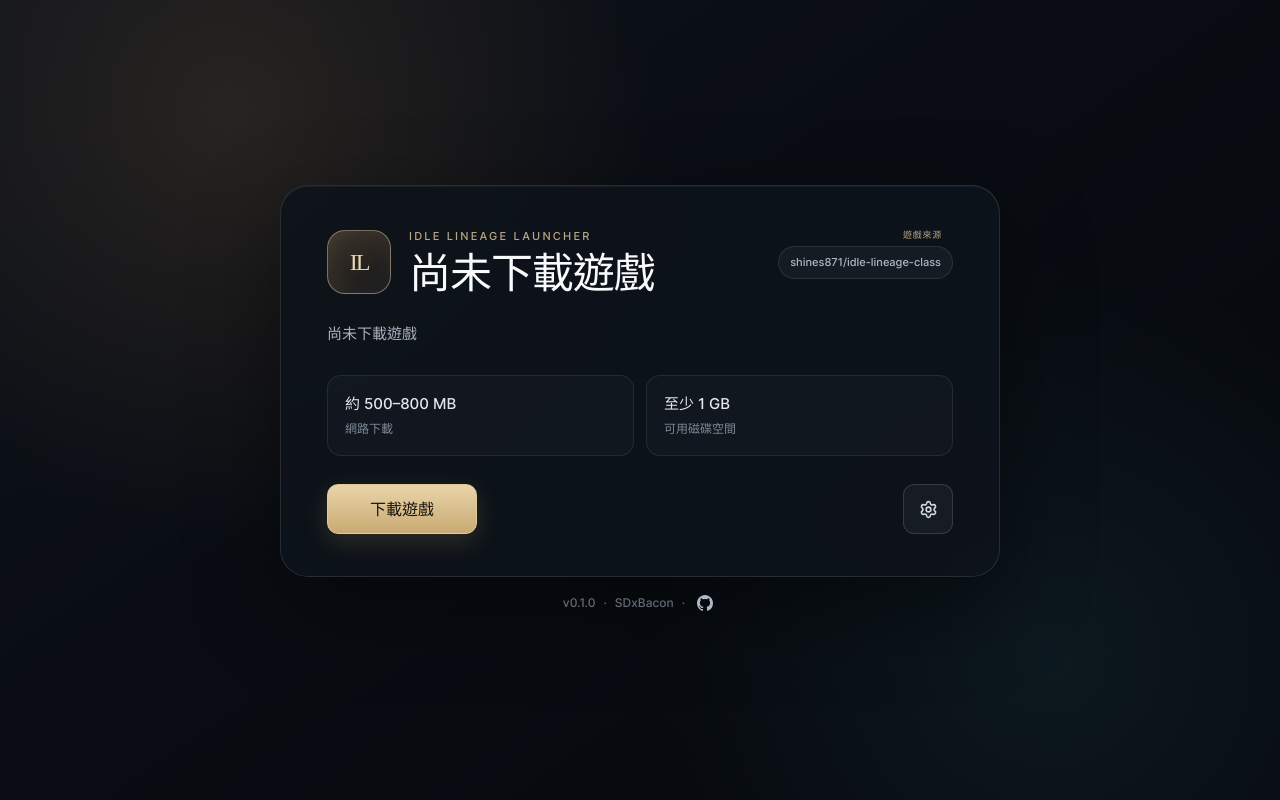
Test case: App › shows the full game path tooltip when the path is truncated
Click the button named "開啟啟動器設置頁" at (928, 509), box [903,484,953,534]
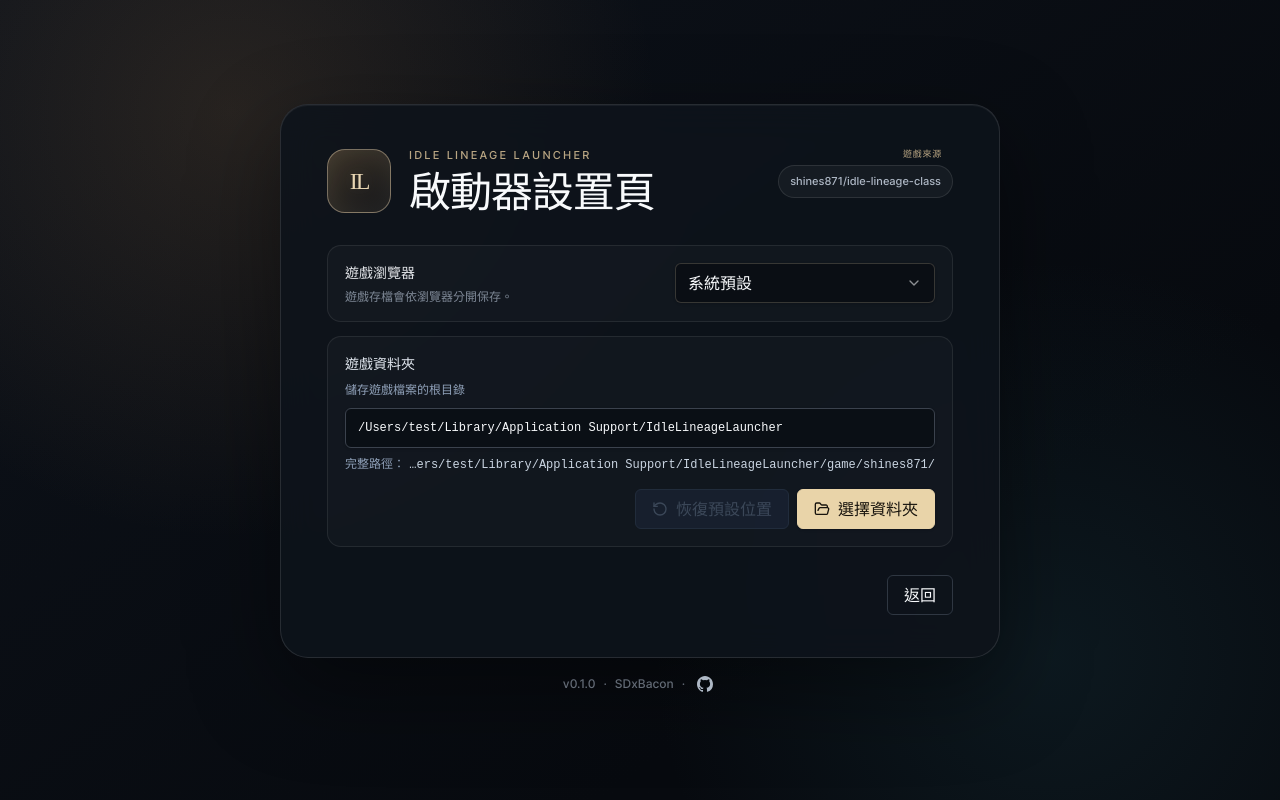
Hover over the text "/Users/test/Library/Application Support/IdleLineageLauncher/game/shines871" at (672, 465), box [409,457,935,473]
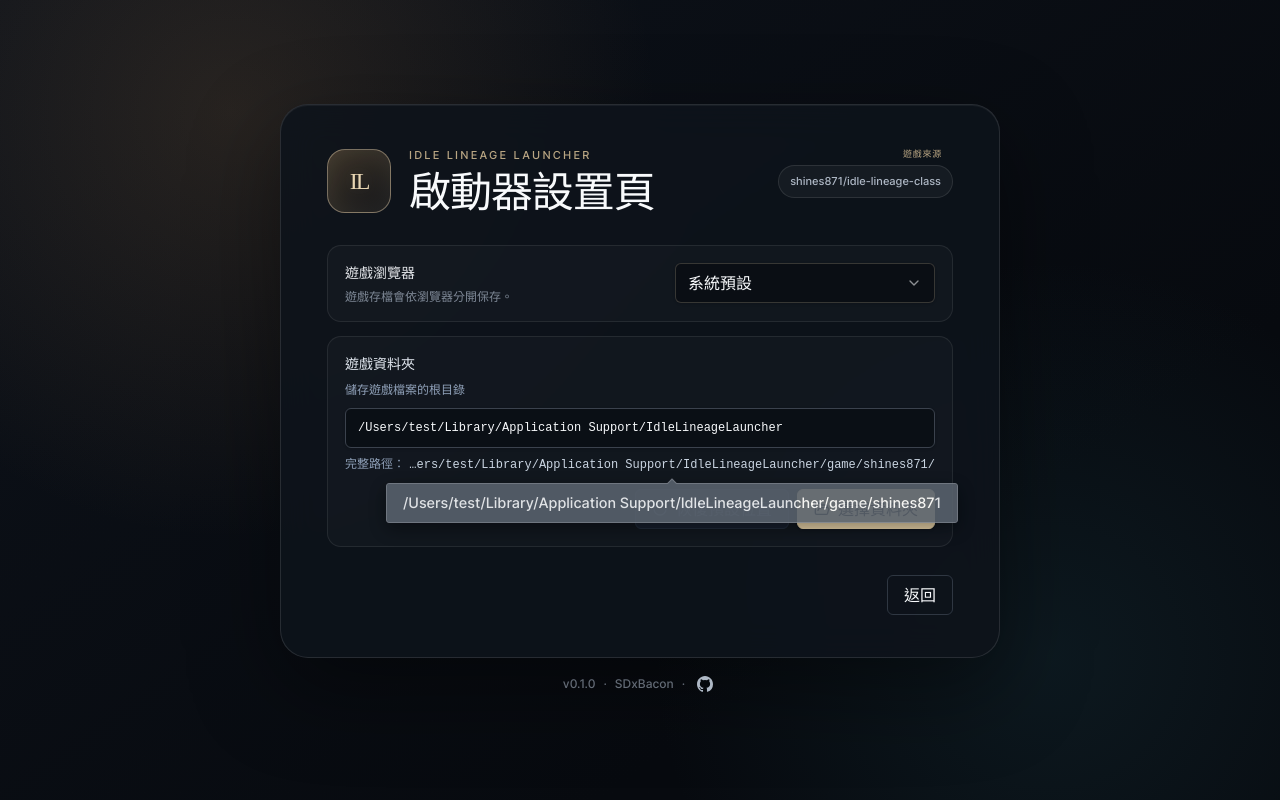
Expected: the tooltip reads "/Users/test/Library/Application Support/IdleLineageLauncher/game/shines871", [403,494,941,511]
